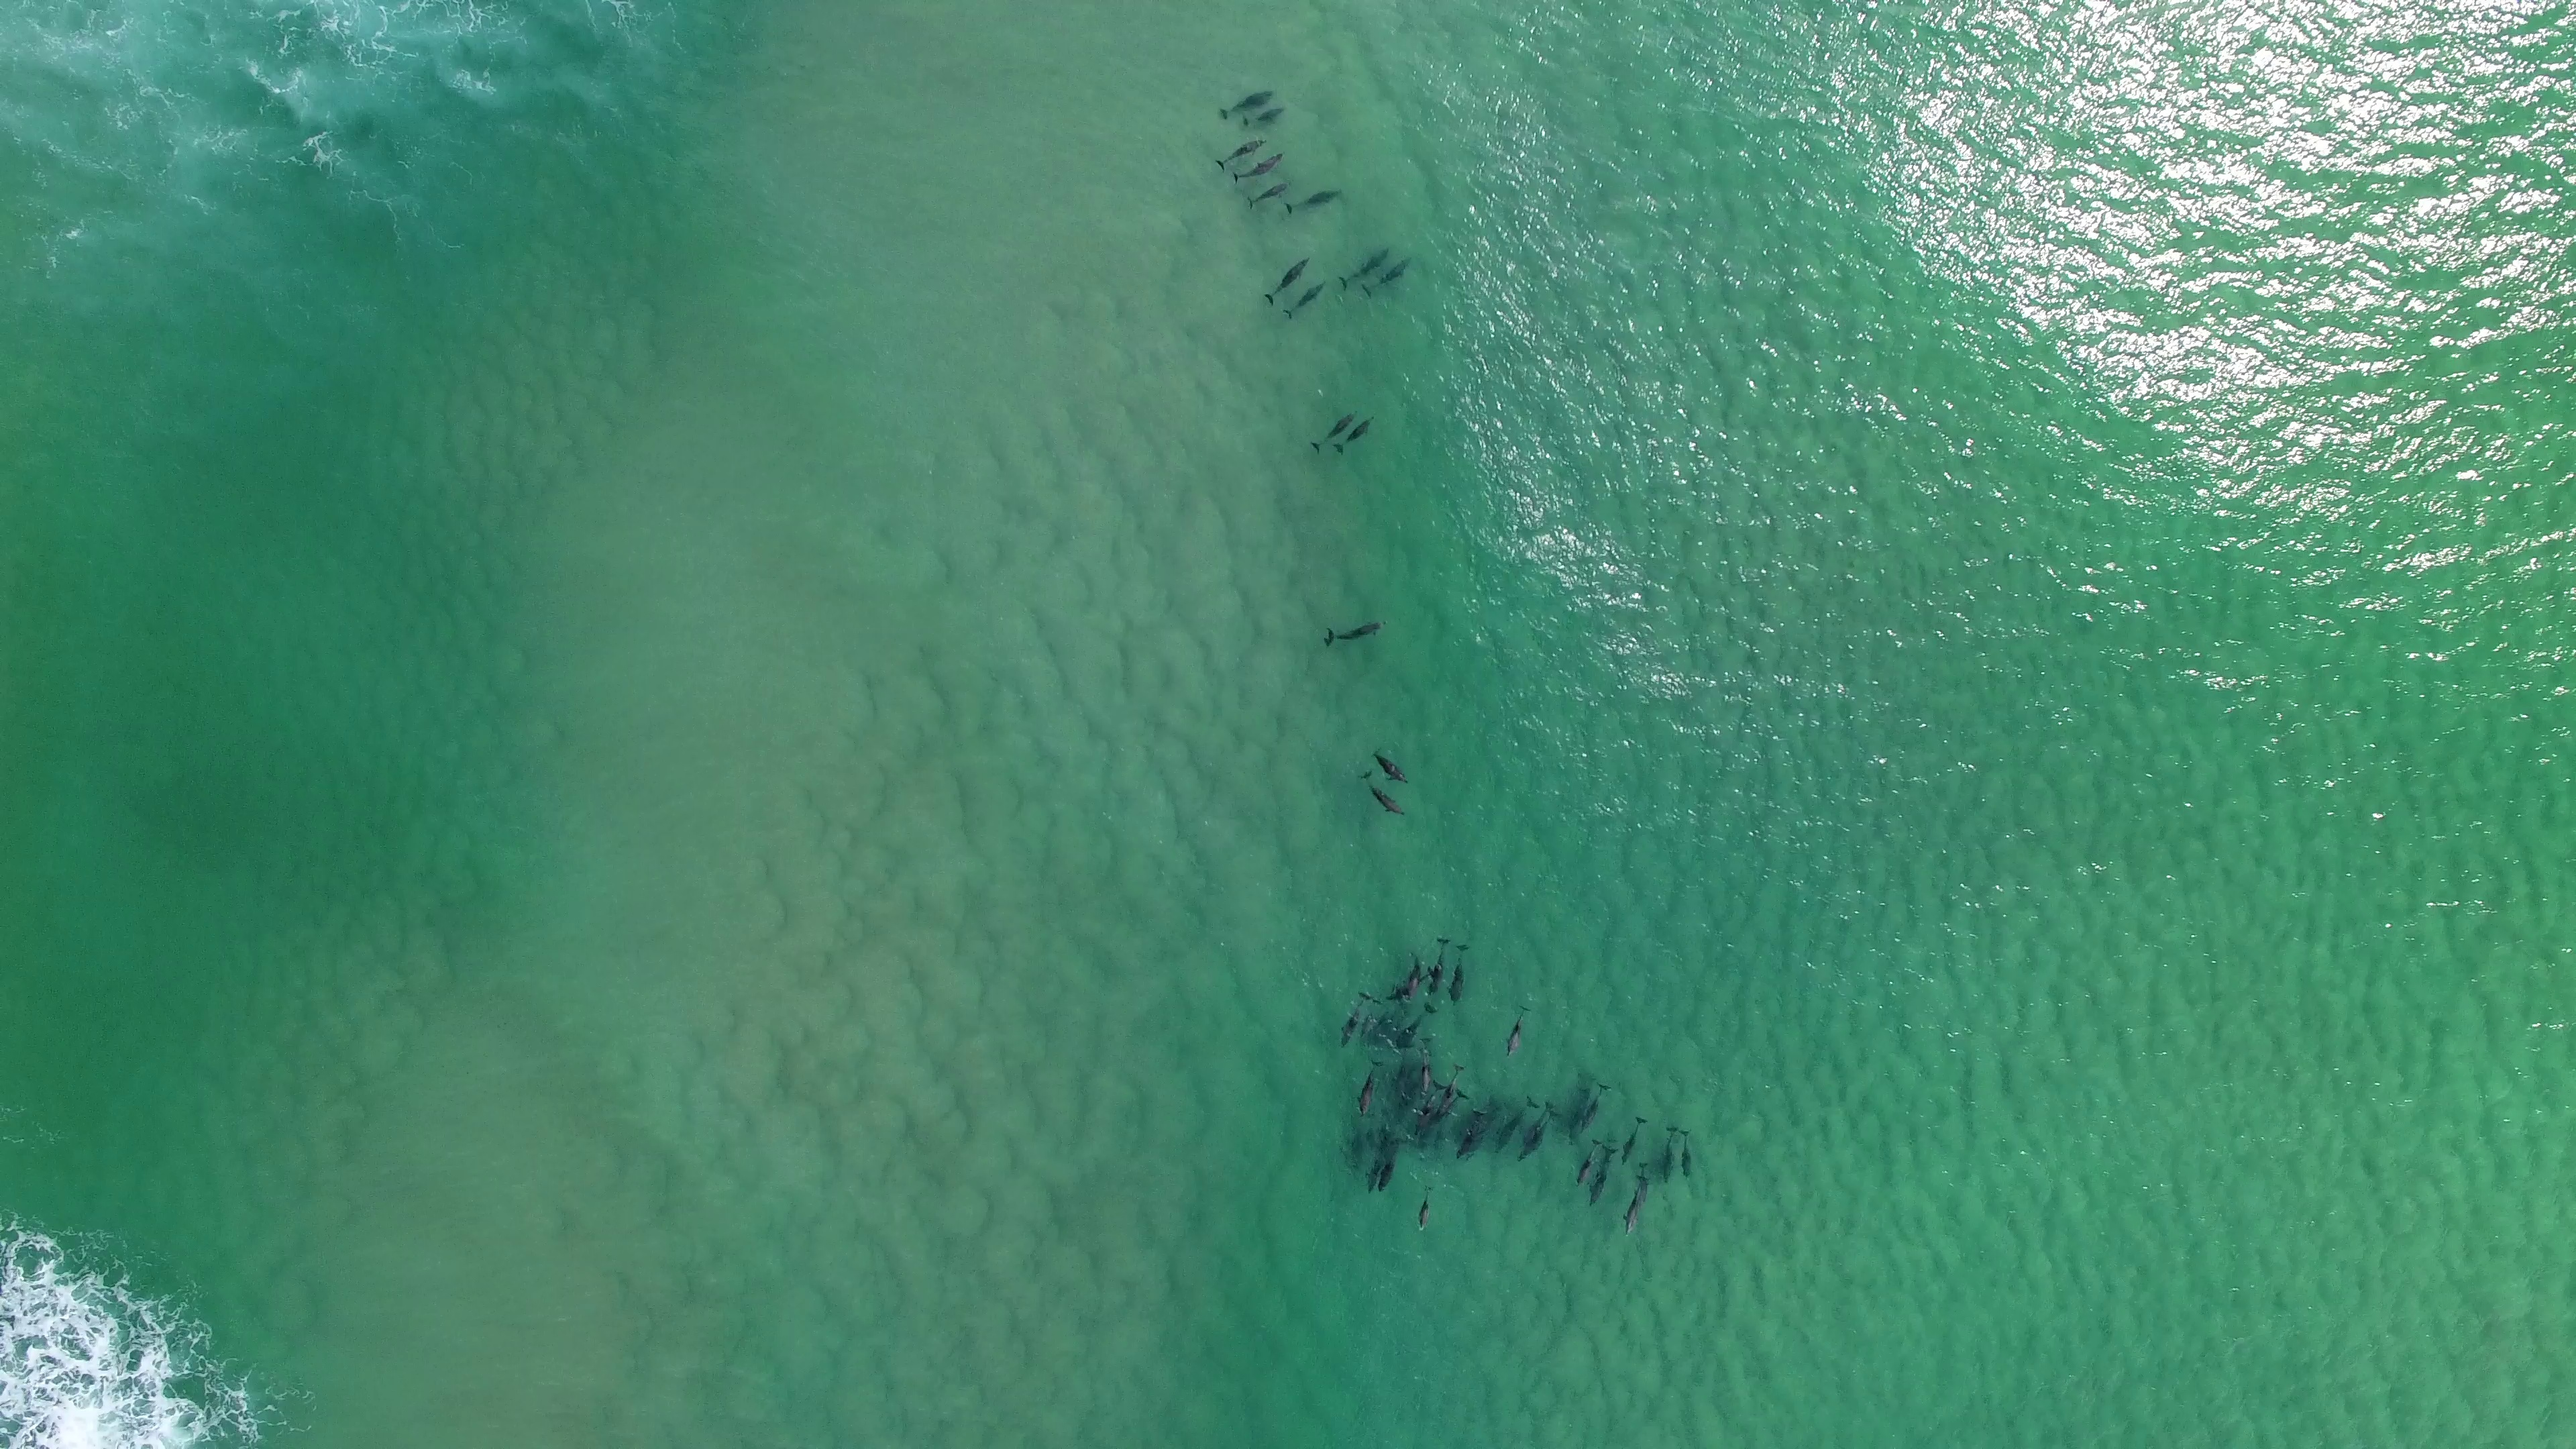dolphin: (1265, 249, 1315, 308), (1322, 614, 1391, 653), (1339, 244, 1392, 292), (1309, 407, 1361, 455), (1361, 255, 1414, 301), (1495, 1097, 1537, 1152), (1214, 134, 1270, 175), (1391, 1003, 1437, 1053), (1359, 771, 1407, 817), (1215, 87, 1277, 122), (1336, 991, 1373, 1049), (1283, 276, 1329, 322), (1283, 186, 1348, 218), (1520, 1109, 1559, 1162), (1424, 936, 1453, 1008), (1435, 1062, 1468, 1122), (1562, 1077, 1596, 1136), (1454, 1109, 1488, 1166), (1233, 149, 1286, 184), (1334, 412, 1376, 456), (1589, 1146, 1621, 1205), (1414, 1079, 1447, 1134), (1376, 1138, 1410, 1192), (1621, 1175, 1649, 1238), (1355, 1060, 1385, 1118), (1571, 1136, 1603, 1191), (1504, 1003, 1532, 1058), (1619, 1115, 1649, 1166), (1582, 1083, 1614, 1131), (1373, 741, 1408, 784), (1242, 182, 1292, 212), (1447, 943, 1468, 1005), (1660, 1123, 1679, 1187), (1403, 950, 1424, 1001), (1240, 104, 1286, 127), (1357, 998, 1382, 1039), (1415, 1185, 1435, 1235), (1417, 1037, 1433, 1095), (1394, 1051, 1410, 1104), (1679, 1129, 1691, 1180)
